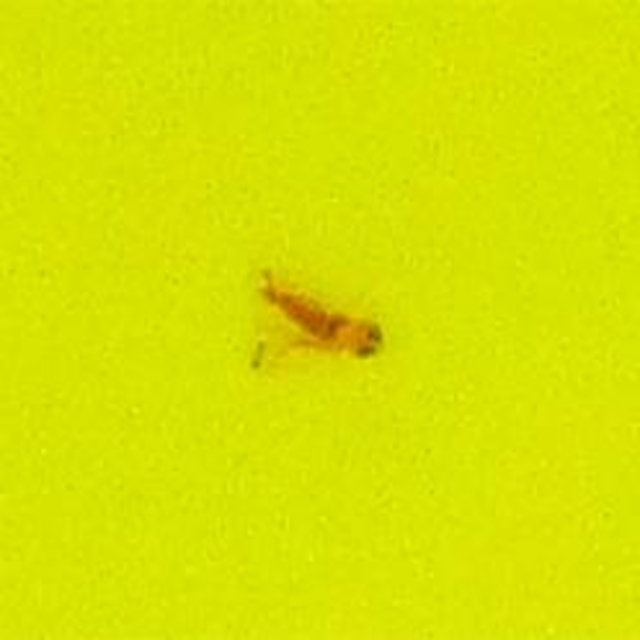Hemiptera: (258, 281, 382, 359)
